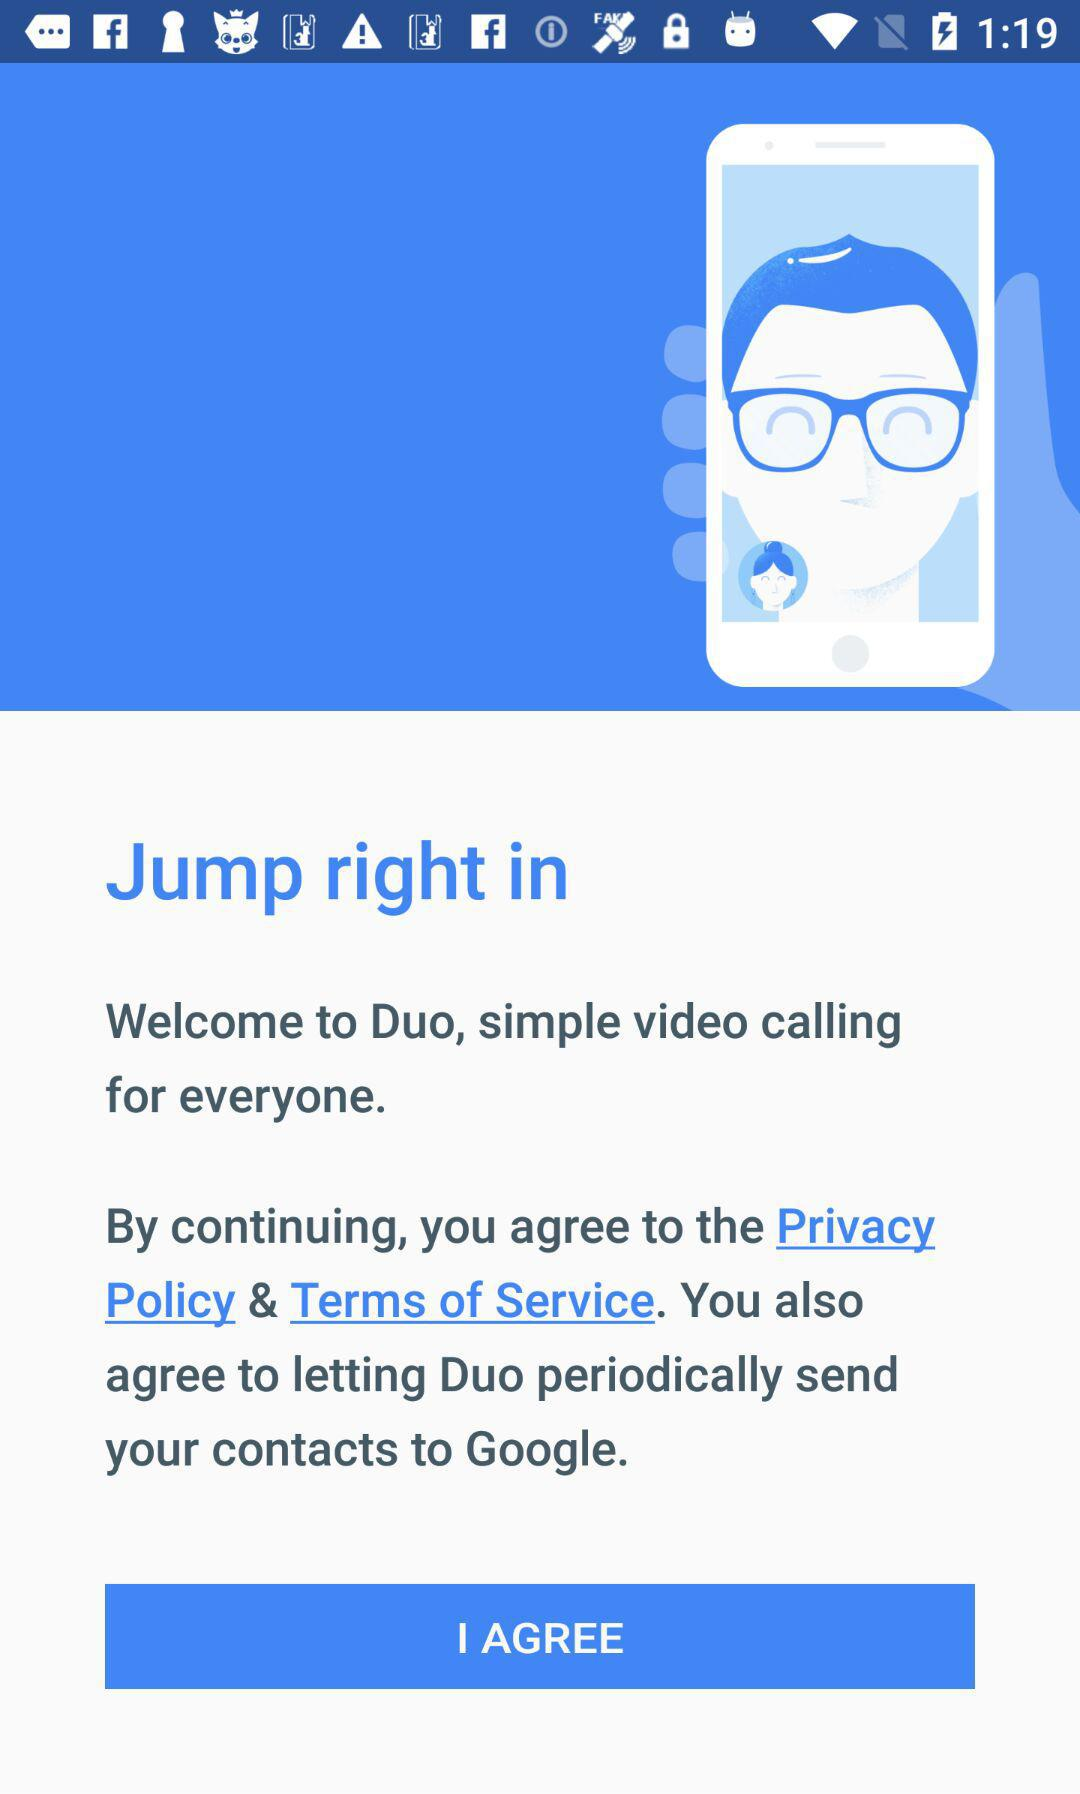Image: (1, 64, 1079, 711)
Text: (104, 1206, 938, 1477), (105, 1001, 901, 1124), (106, 841, 568, 918)
TextButton: (105, 1583, 975, 1689)
UpperTaskBar: (1, 1, 1080, 64)
